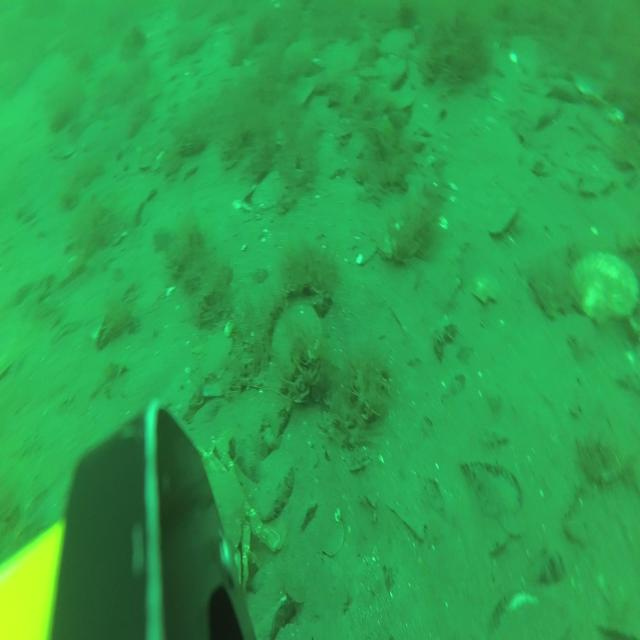scallop: (565, 247, 640, 330), (270, 297, 324, 379), (198, 328, 236, 385), (252, 165, 288, 212), (378, 24, 418, 60), (282, 35, 314, 79), (467, 271, 504, 307)
